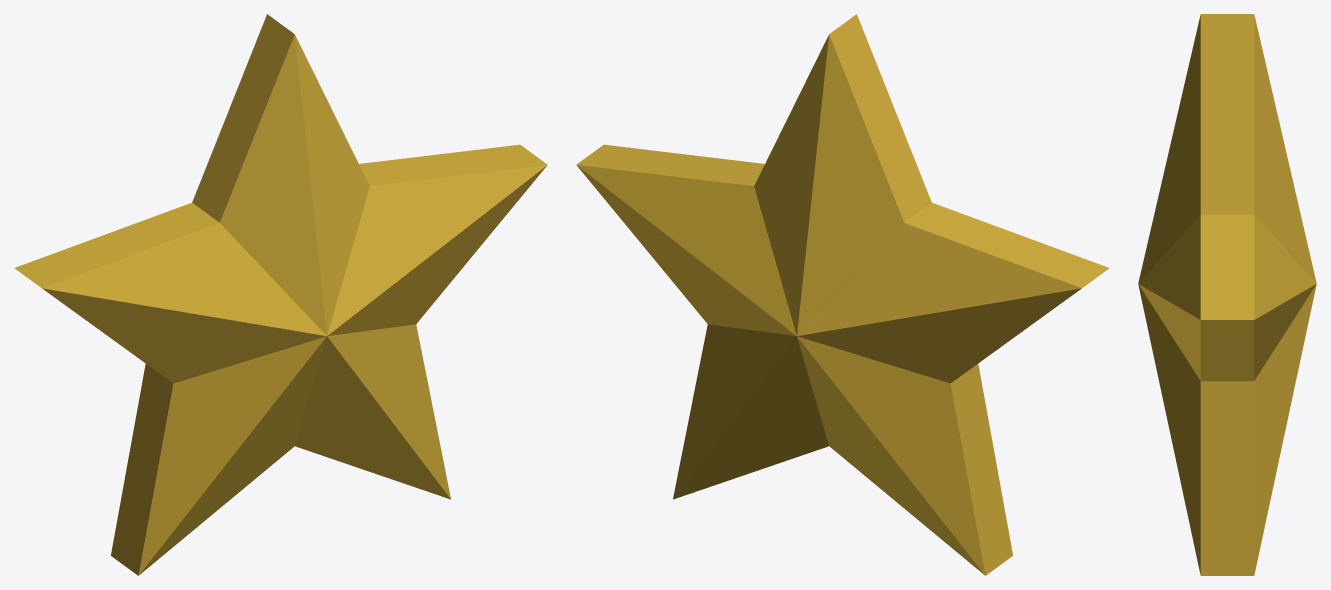
The model's file is star.glb.
3 renders of one model, left to right at view 1: azimuth 30°, elevation 25°; view 2: azimuth 150°, elevation 25°; view 3: azimuth 270°, elevation 25°, orthographic. The views are drawn at different scales.
Parts seen in each view (by area): view 1: star; view 2: star; view 3: star.
Boxes of the visible parts, x1,y1,x2,y2 form: star: (14,14,547,575); star: (576,14,1109,575); star: (1138,14,1316,575).
Bounding box in the file's own units: 1 × 0.9511 × 0.3154.
